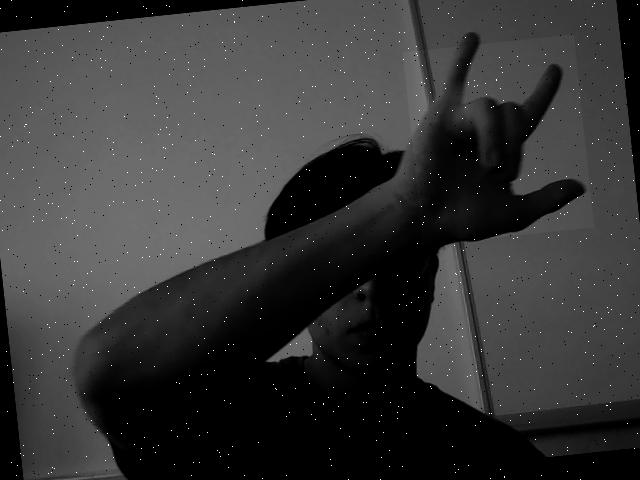I_Love_You: (403, 35, 594, 245)
